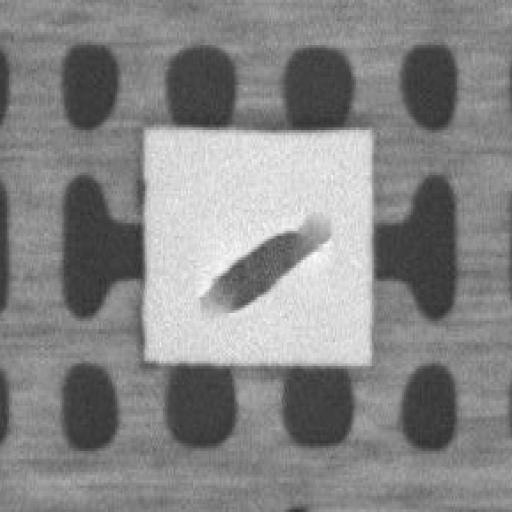DIE_INK: (284, 136, 501, 214)
